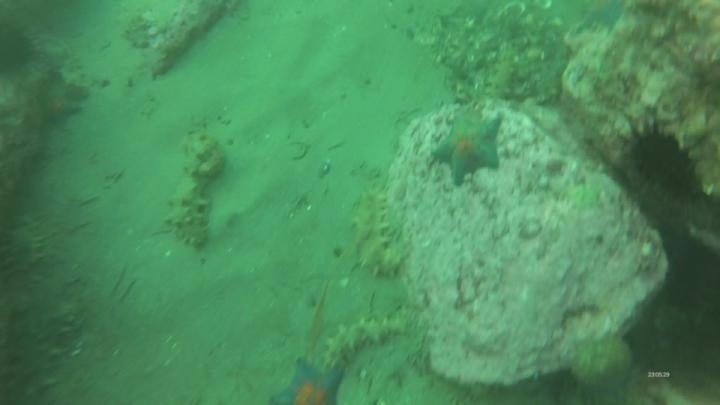echinus: (622, 123, 701, 199), (1, 19, 39, 79)
holothurian: (163, 127, 227, 252), (3, 301, 72, 405), (349, 184, 405, 280), (318, 311, 412, 368), (1, 224, 45, 294), (483, 43, 522, 102)
starfish: (429, 111, 506, 187), (270, 358, 348, 404), (37, 82, 86, 130), (571, 1, 632, 37)
